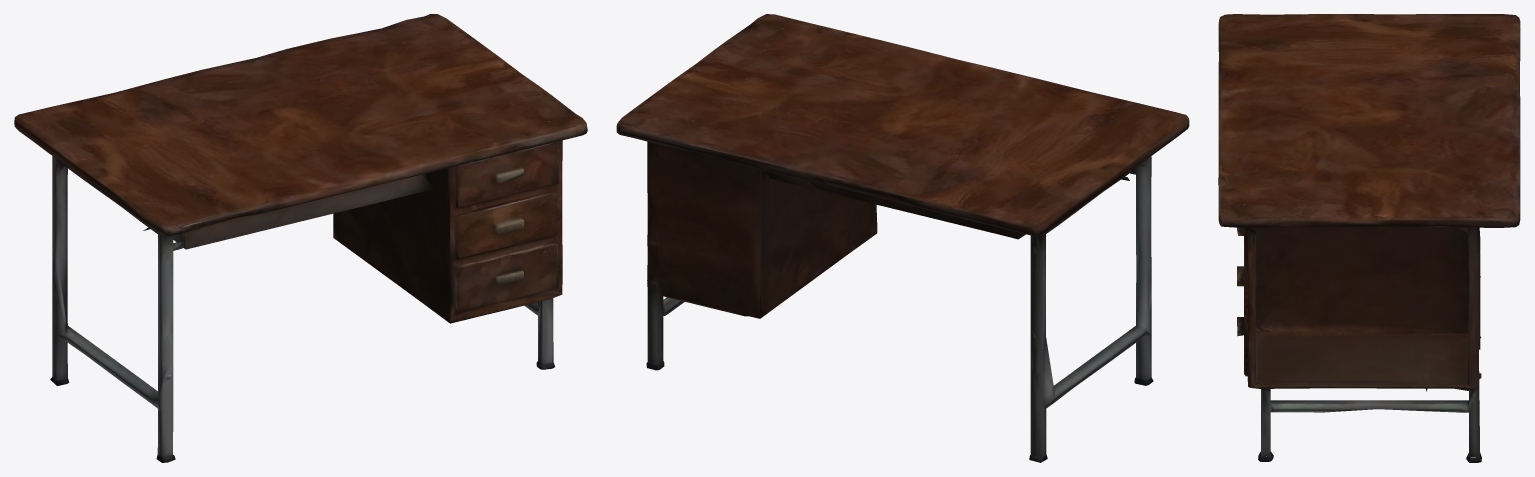
The model's file is desk.glb.
3 renders of one model, left to right at view 1: azimuth 30°, elevation 25°; view 2: azimuth 150°, elevation 25°; view 3: azimuth 270°, elevation 25°, orthographic.
Visible parts, largest first — view 1: tripo_node_67ded8c7-3ce5-4f2b-8732-83ecf944d6c7; view 2: tripo_node_67ded8c7-3ce5-4f2b-8732-83ecf944d6c7; view 3: tripo_node_67ded8c7-3ce5-4f2b-8732-83ecf944d6c7.
Boxes of the visible parts, x1=… form: tripo_node_67ded8c7-3ce5-4f2b-8732-83ecf944d6c7: x1=14, y1=14, x2=587, y2=462; tripo_node_67ded8c7-3ce5-4f2b-8732-83ecf944d6c7: x1=616, y1=14, x2=1189, y2=462; tripo_node_67ded8c7-3ce5-4f2b-8732-83ecf944d6c7: x1=1218, y1=14, x2=1520, y2=462.
Bounding box in the file's own units: 1 × 0.5721 × 0.6219.
Materials: 1 (1 with a texture image).
